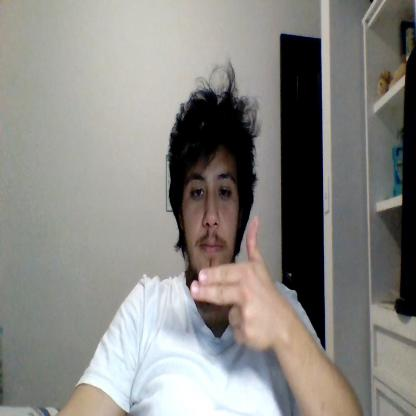H: (190, 214, 274, 349)
